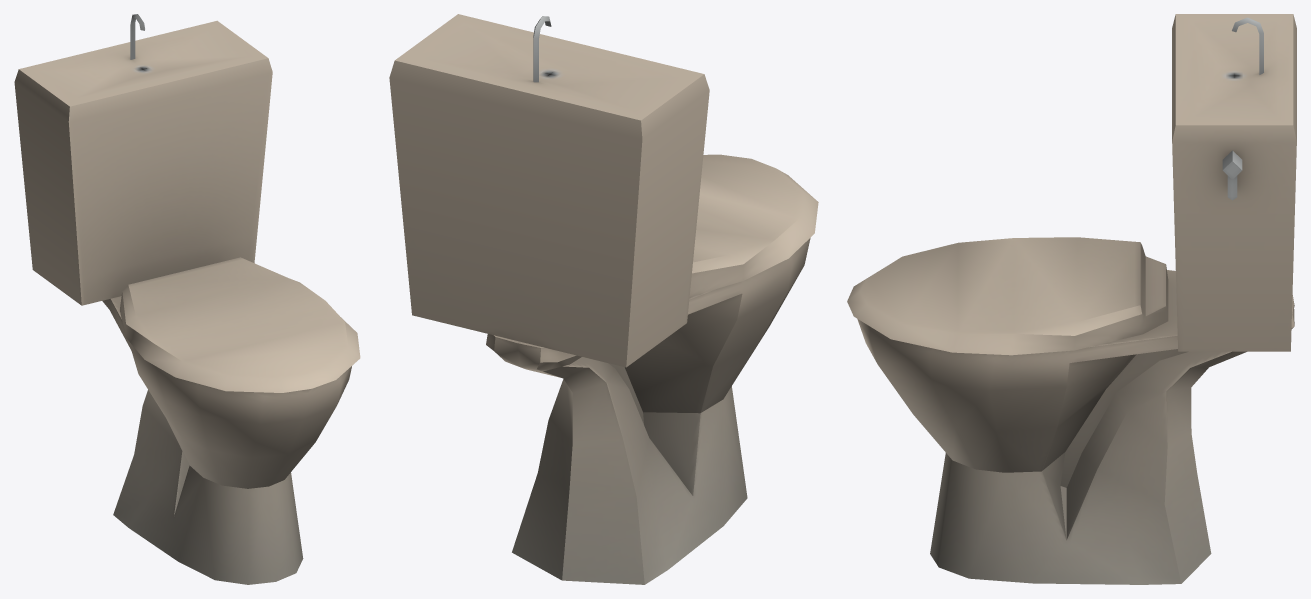
The model's file is sb_obj_ModernCity082_toilet_b.fbx.
3 views of the same model, side by side, from view 1: azimuth 30°, elevation 25°; view 2: azimuth 150°, elevation 25°; view 3: azimuth 270°, elevation 25° (orthographic). The views are drawn at different scales.
Parts seen in each view (by area): view 1: sb_obj_ModernCity082_toilet_b; view 2: sb_obj_ModernCity082_toilet_b; view 3: sb_obj_ModernCity082_toilet_b.
Part boxes in pixels (<box>): sb_obj_ModernCity082_toilet_b: <box>14,14,360,584</box>; sb_obj_ModernCity082_toilet_b: <box>389,14,818,584</box>; sb_obj_ModernCity082_toilet_b: <box>847,14,1296,584</box>.
Size of the model in its own units: 0.4206 by 0.8447 by 0.6419.
1 material, 1 textured.
